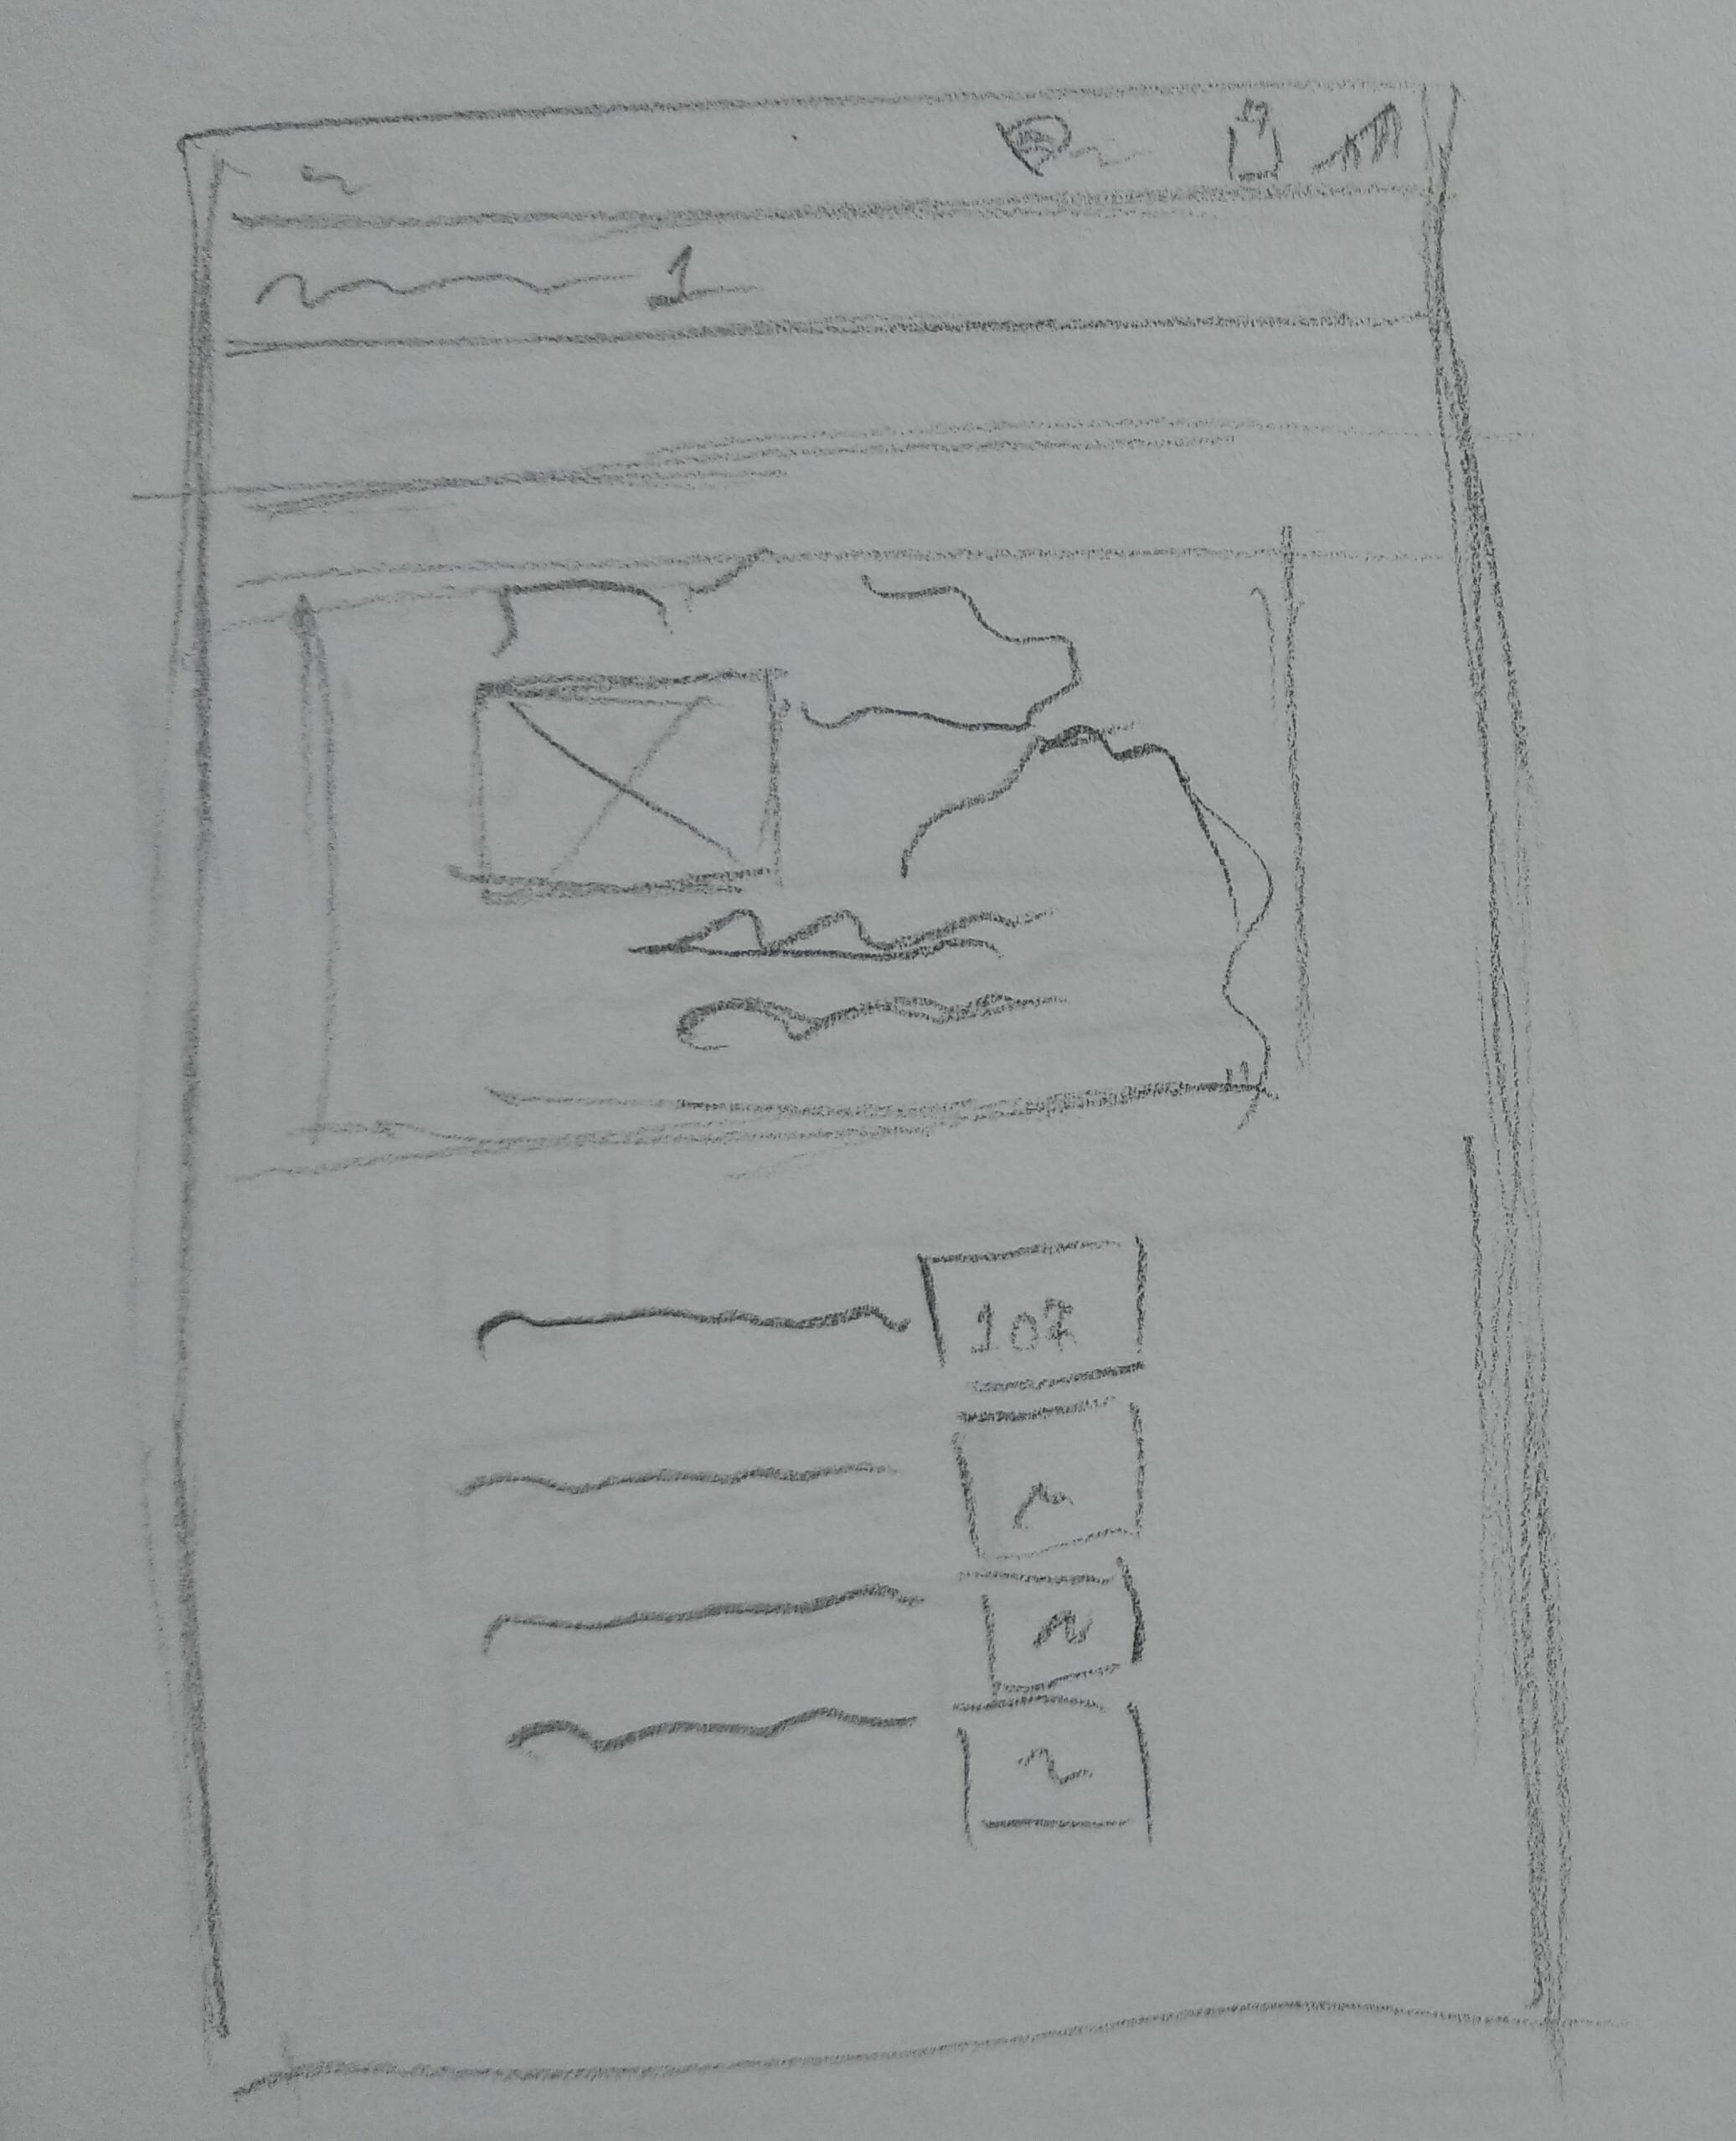Button: (912, 1234, 1157, 1394), (944, 1691, 1167, 1842), (944, 1397, 1146, 1557), (964, 1557, 1157, 1691)
Label: (248, 234, 753, 319), (461, 1271, 914, 1365), (473, 1574, 925, 1656), (498, 1695, 926, 1766), (452, 1450, 932, 1505)
Map: (262, 545, 1307, 1158)
Screen: (135, 85, 1550, 2090)
